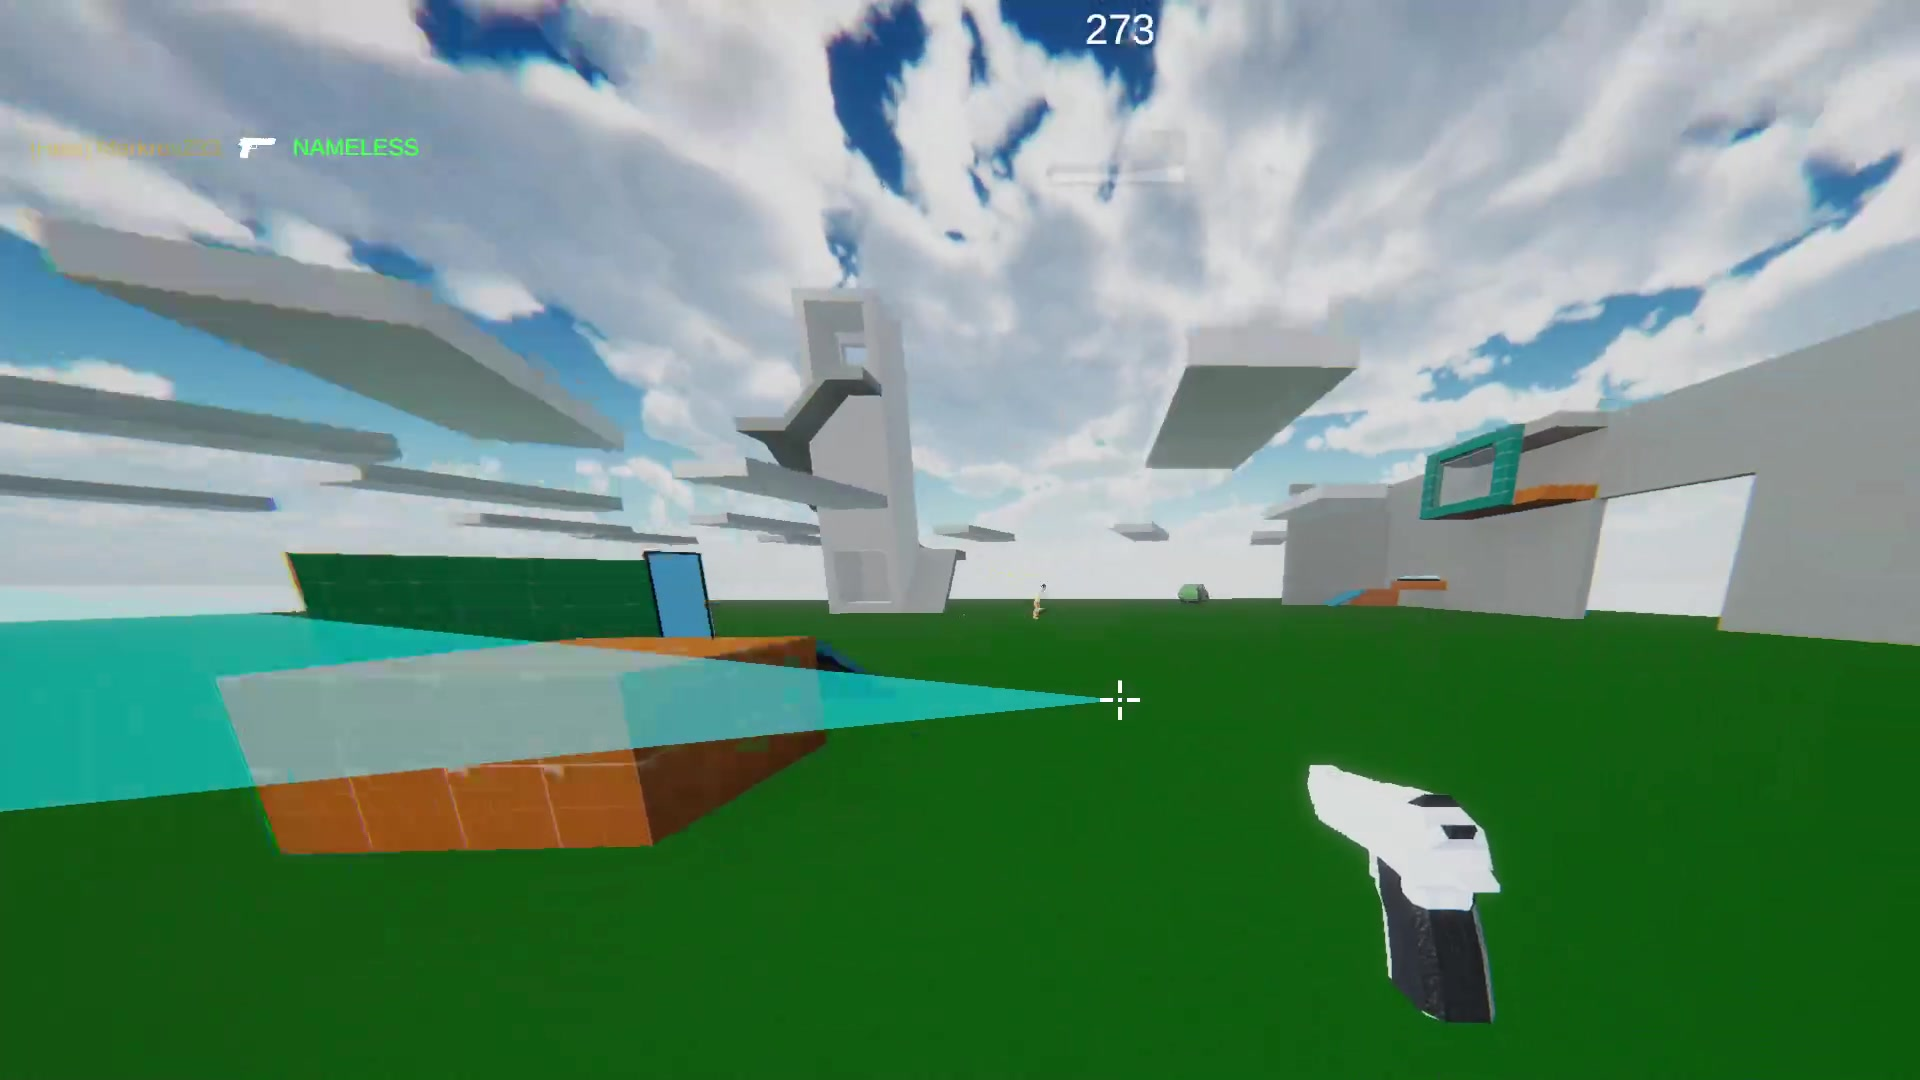human: (1034, 579, 1048, 622)
